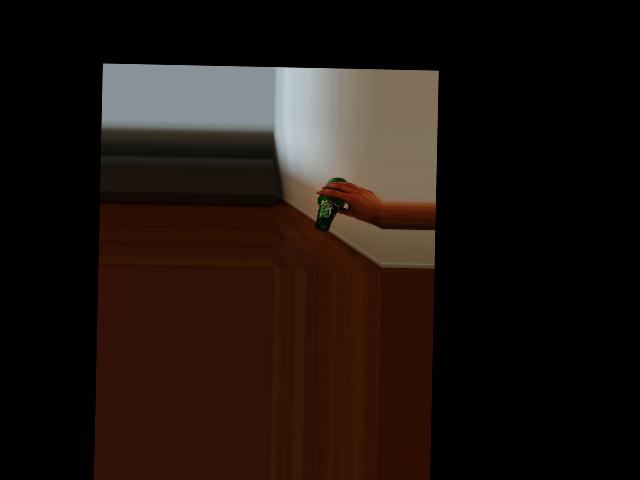beer: (315, 177, 346, 232)
